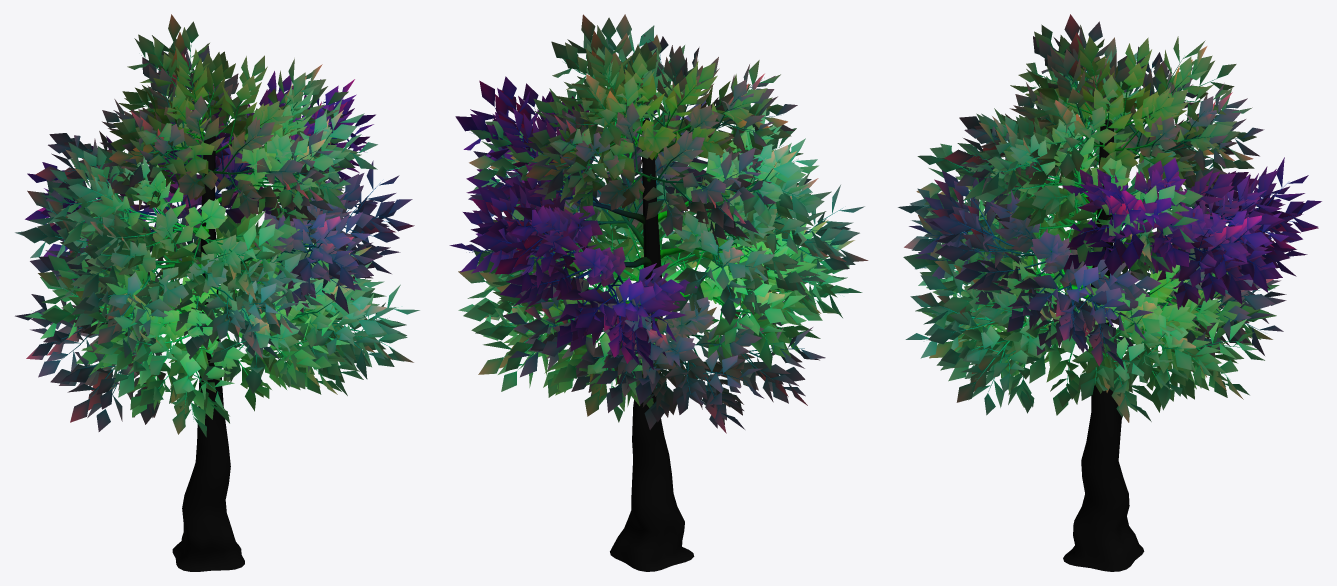
The model's file is tree.fbx.
3 renders of one model, left to right at view 1: azimuth 30°, elevation 25°; view 2: azimuth 150°, elevation 25°; view 3: azimuth 270°, elevation 25°, orthographic. The views are drawn at different scales.
Visible parts, largest first — view 1: Tree_1, Tree_0; view 2: Tree_1, Tree_0; view 3: Tree_1, Tree_0.
Boxes of the visible parts, <box> form: Tree_1: <box>15,14,419,437</box>; Tree_0: <box>35,41,396,571</box>; Tree_1: <box>449,14,868,433</box>; Tree_0: <box>469,36,843,571</box>; Tree_1: <box>898,14,1321,422</box>; Tree_0: <box>922,49,1299,571</box>.
Bounding box in the file's own units: 56.68 × 77.67 × 58.06.
